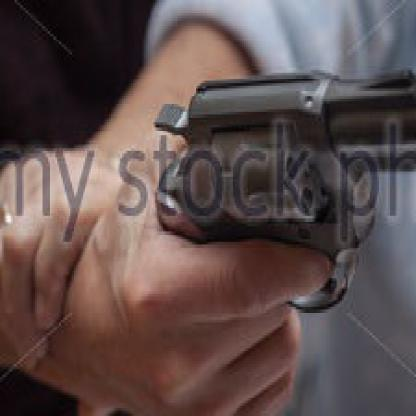gun: (154, 55, 414, 325)
